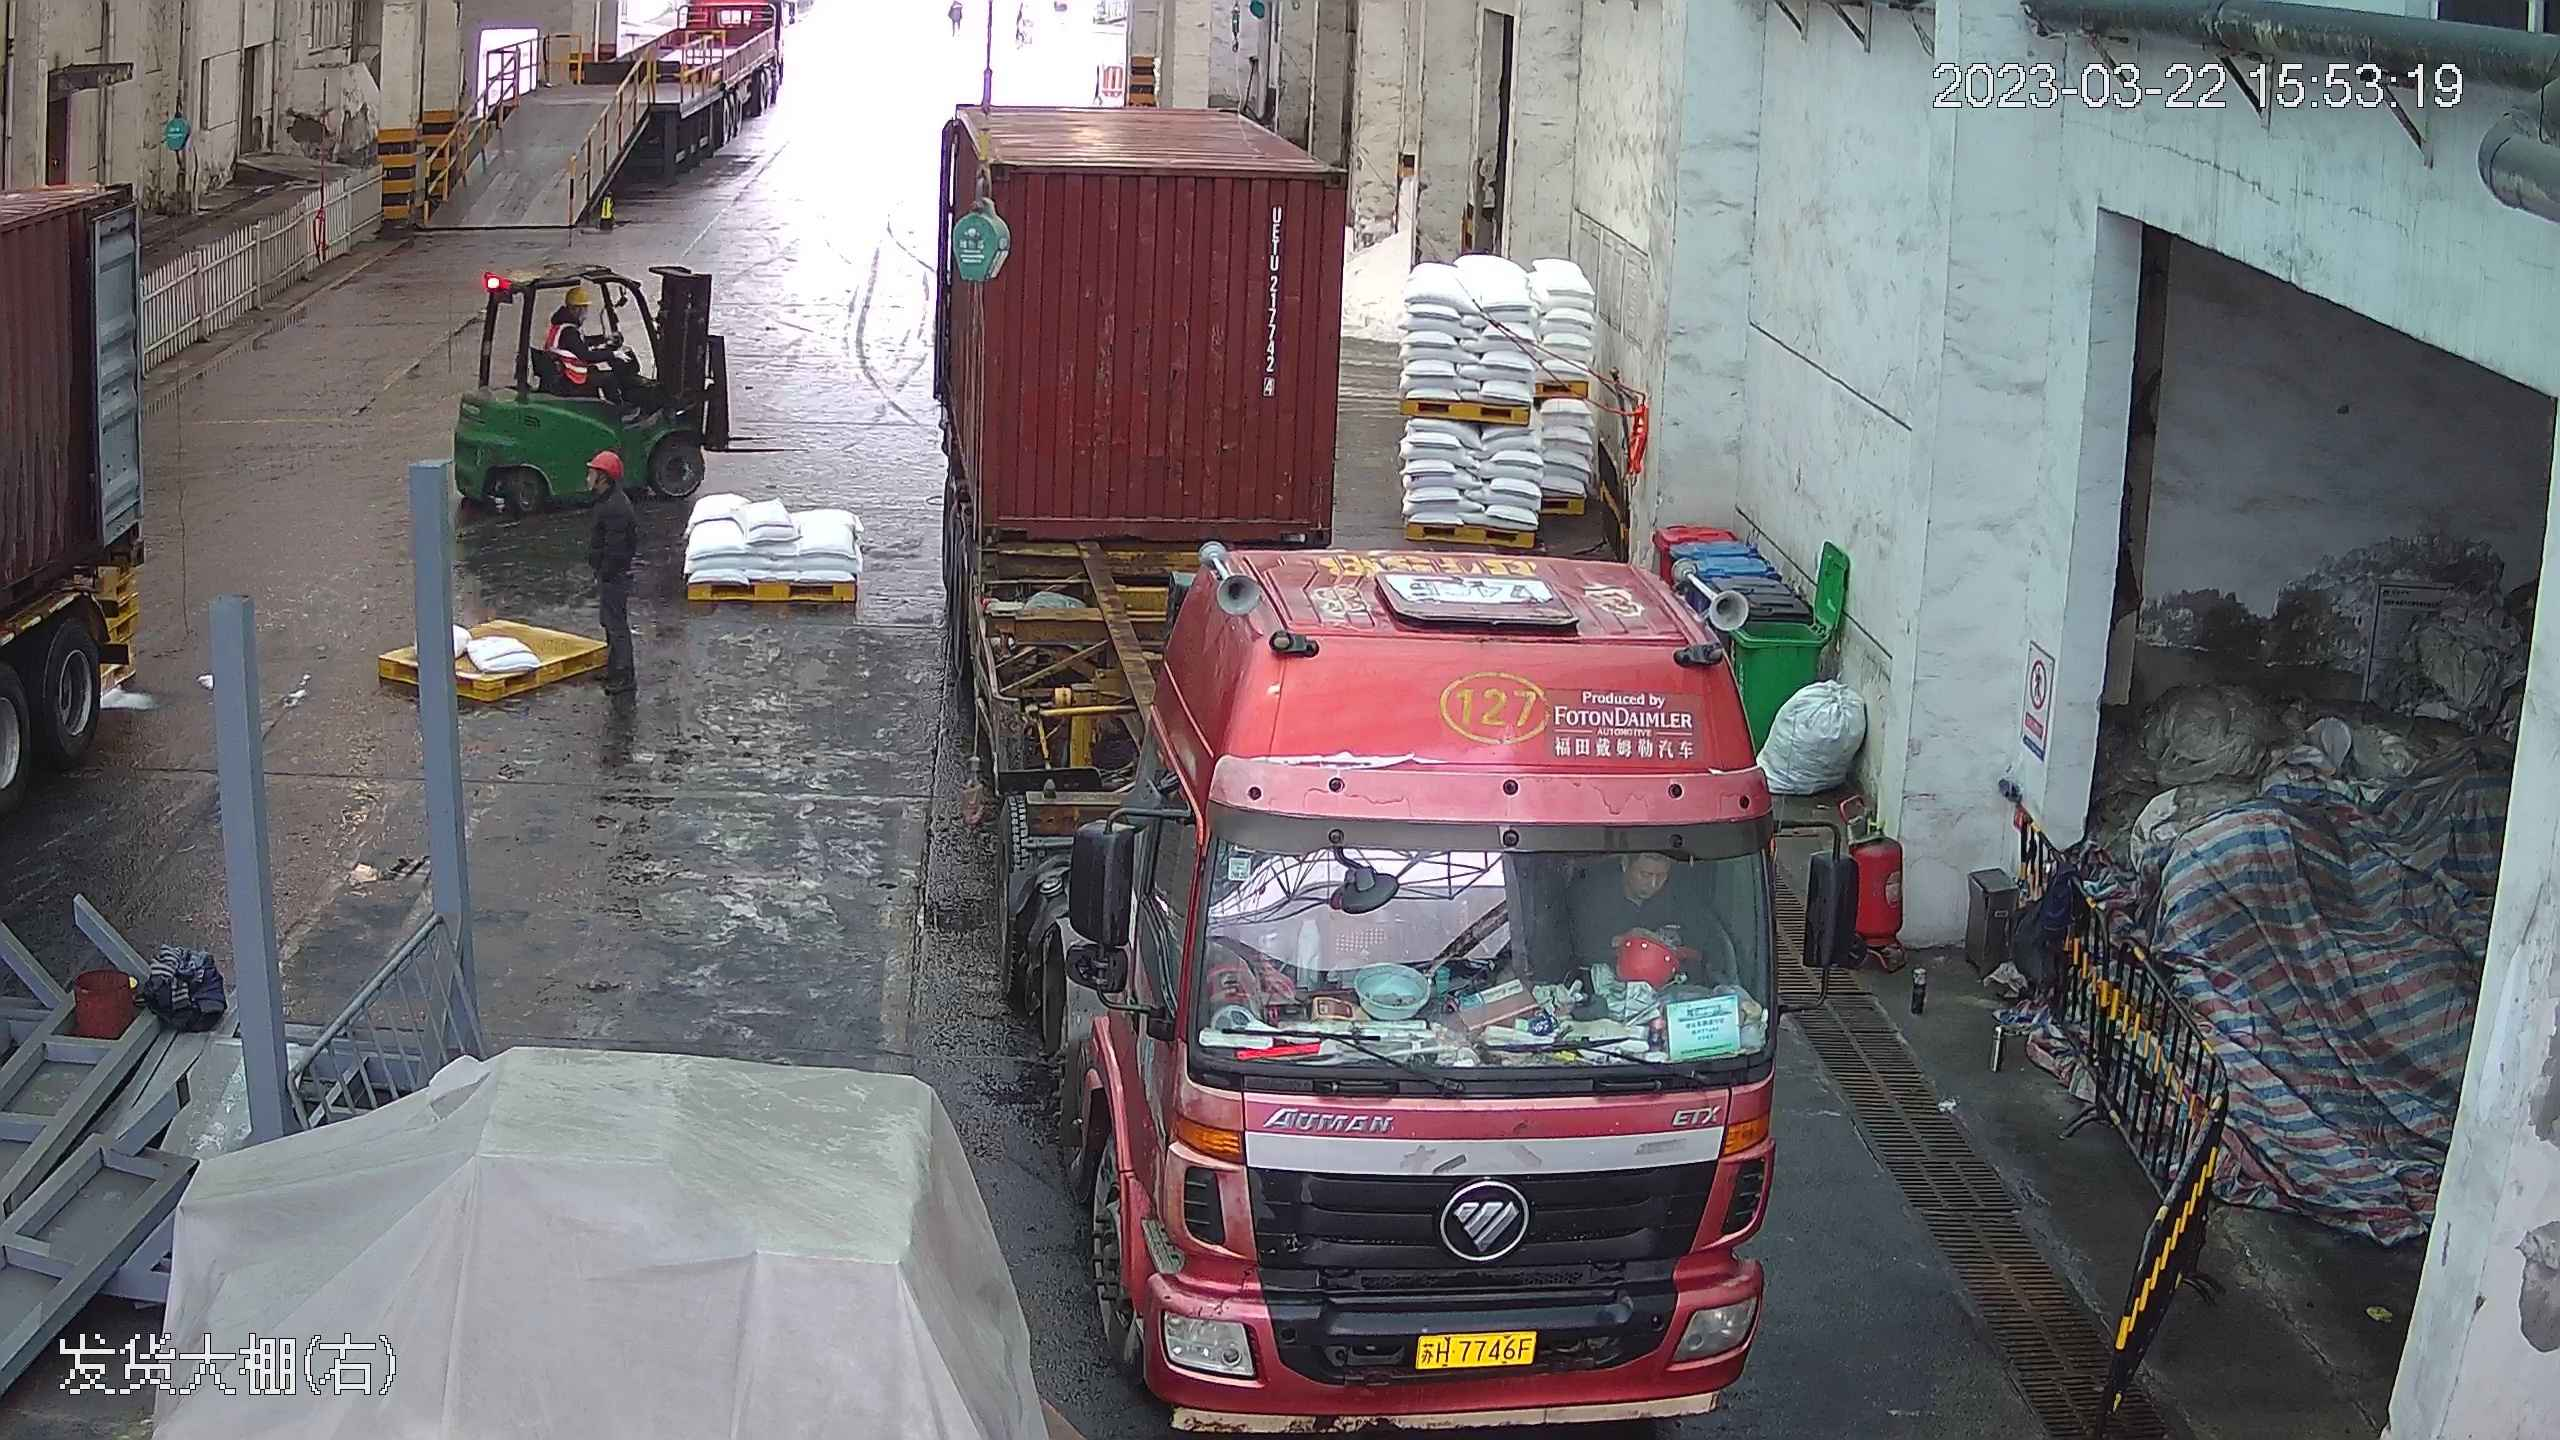head: (578, 446, 636, 530), (547, 281, 600, 346)
helmet: (586, 444, 627, 478), (560, 281, 593, 308)
people: (570, 446, 648, 756), (546, 282, 629, 401), (547, 281, 604, 348)
truck: (930, 96, 1817, 1436), (3, 74, 167, 1275)
